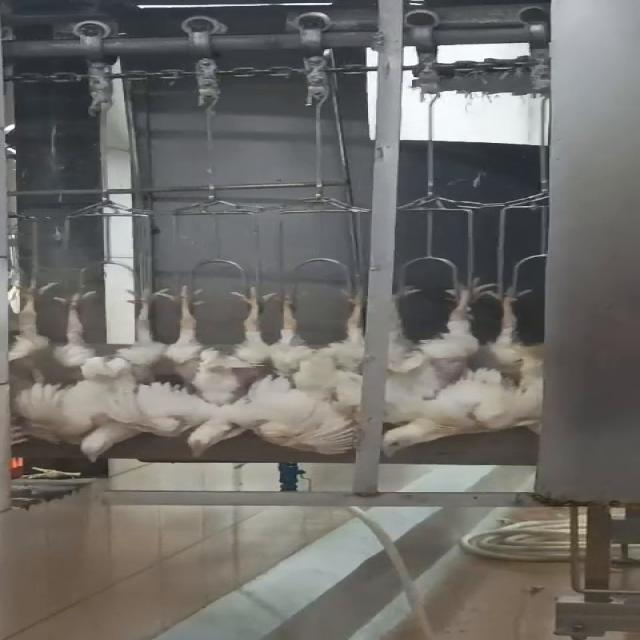chicken: (235, 284, 373, 454), (375, 276, 496, 461), (66, 284, 173, 462), (162, 286, 269, 458), (466, 276, 554, 435), (9, 282, 69, 454)
